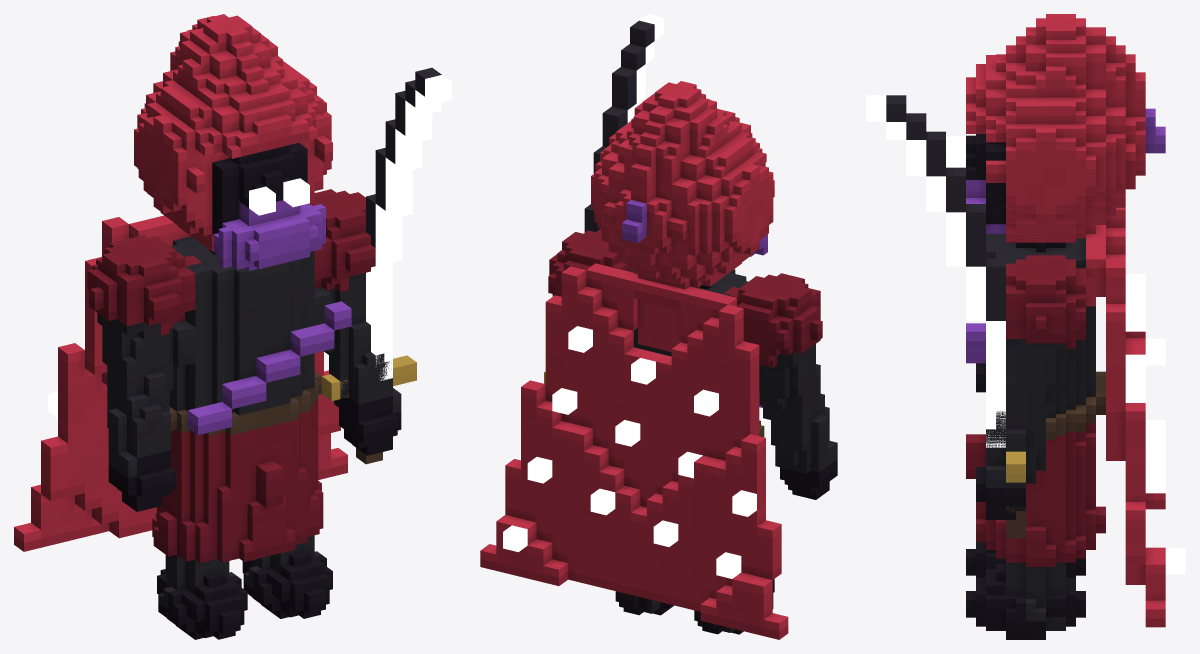
Rendered from u_oracle__lame.glb.
3 renders of one model, left to right at view 1: azimuth 30°, elevation 25°; view 2: azimuth 150°, elevation 25°; view 3: azimuth 270°, elevation 25°, orthographic. The views are drawn at different scales.
Parts seen in each view (by area): view 1: oracle_body, oracle_weaponglow, oracle_weapon, oracle_glow; view 2: oracle_body, oracle_glow, oracle_weapon, oracle_weaponglow; view 3: oracle_body, oracle_weapon, oracle_weaponglow, oracle_glow.
Boxes of the visible parts, <box> form: oracle_body: <box>14,14,401,639</box>; oracle_weaponglow: <box>366,75,451,380</box>; oracle_weapon: <box>322,67,441,464</box>; oracle_glow: <box>48,178,309,418</box>; oracle_body: <box>480,81,837,639</box>; oracle_glow: <box>503,326,756,578</box>; oracle_weapon: <box>544,20,654,383</box>; oracle_weaponglow: <box>627,14,663,122</box>; oracle_body: <box>966,14,1165,639</box>; oracle_weapon: <box>886,95,1025,537</box>; oracle_weaponglow: <box>866,95,1005,447</box>; oracle_glow: <box>946,136,1185,574</box>.
Size of the model in its own units: 0.95 by 1.62 by 0.8.
